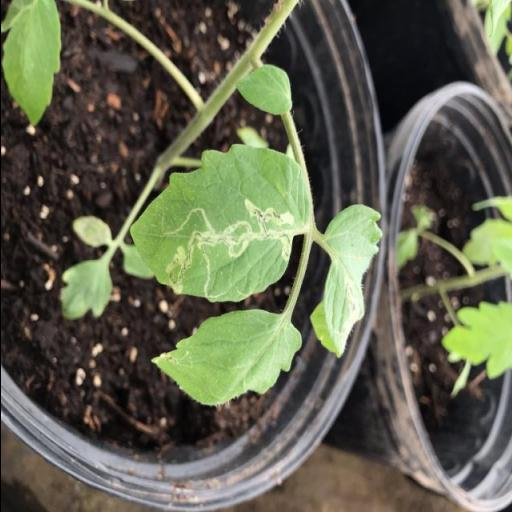disease_tomato: (128, 140, 314, 302)
